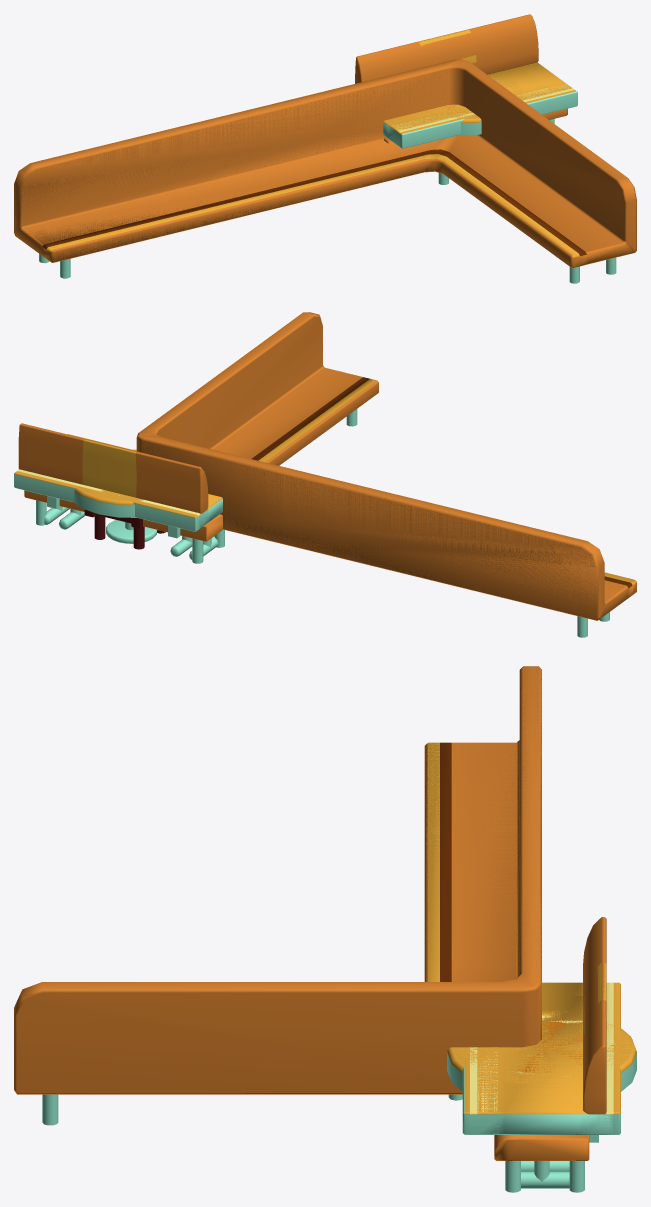
File: AllLv2.fbx
3 views of the same model, one above another, from view 1: azimuth 30°, elevation 25°; view 2: azimuth 150°, elevation 25°; view 3: azimuth 270°, elevation 25° (orthographic). The views are drawn at different scales.
Parts seen in each view (by area): view 1: Bench_Corner1Lv3, Bench_Corner3Lv3, Bench_Corner2Lv3, BenchLv1, Table_LongLv1, Table_ShortLv1, Table_RoundLv1, Table_LongLv2; view 2: Bench_Corner3Lv3, Bench_Corner2Lv3, Bench_Corner1Lv3, BenchLv1, Chair_BrownLv1, Table_LongLv1, Table_RoundLv1, Table_ShortLv1; view 3: Bench_Corner2Lv3, Bench_Corner3Lv3, Table_LongLv1, Bench_Corner1Lv3, BenchLv1, Table_ShortLv1, Table_RoundLv1, Table_LongLv2, Table_RoundLv3.
Part boxes in pixels (left/top/right/bottom): Bench_Corner1Lv3: left=16, top=61, right=633, bottom=264; Bench_Corner3Lv3: left=14, top=94, right=352, bottom=278; Bench_Corner2Lv3: left=315, top=59, right=636, bottom=283; BenchLv1: left=355, top=14, right=567, bottom=143; Table_LongLv1: left=383, top=62, right=577, bottom=148; Table_ShortLv1: left=415, top=67, right=558, bottom=143; Table_RoundLv1: left=423, top=79, right=522, bottom=135; Table_LongLv2: left=388, top=63, right=573, bottom=146; Bench_Corner3Lv3: left=287, top=469, right=636, bottom=637; Bench_Corner2Lv3: left=136, top=312, right=378, bottom=544; Bench_Corner1Lv3: left=142, top=368, right=634, bottom=620; BenchLv1: left=18, top=423, right=224, bottom=563; Chair_BrownLv1: left=82, top=439, right=165, bottom=549; Table_LongLv1: left=14, top=434, right=222, bottom=560; Table_RoundLv1: left=73, top=449, right=157, bottom=543; Table_ShortLv1: left=33, top=474, right=192, bottom=556; Bench_Corner2Lv3: left=14, top=878, right=541, bottom=1125; Bench_Corner3Lv3: left=424, top=666, right=541, bottom=965; Table_LongLv1: left=462, top=982, right=620, bottom=1188; Bench_Corner1Lv3: left=424, top=667, right=541, bottom=983; BenchLv1: left=494, top=917, right=606, bottom=1192; Table_ShortLv1: left=463, top=996, right=620, bottom=1171; Table_RoundLv1: left=447, top=1009, right=636, bottom=1091; Table_LongLv2: left=470, top=982, right=613, bottom=1134; Table_RoundLv3: left=453, top=1010, right=631, bottom=1084.
Bounding box in the file's own units: 718 × 128 × 472.
